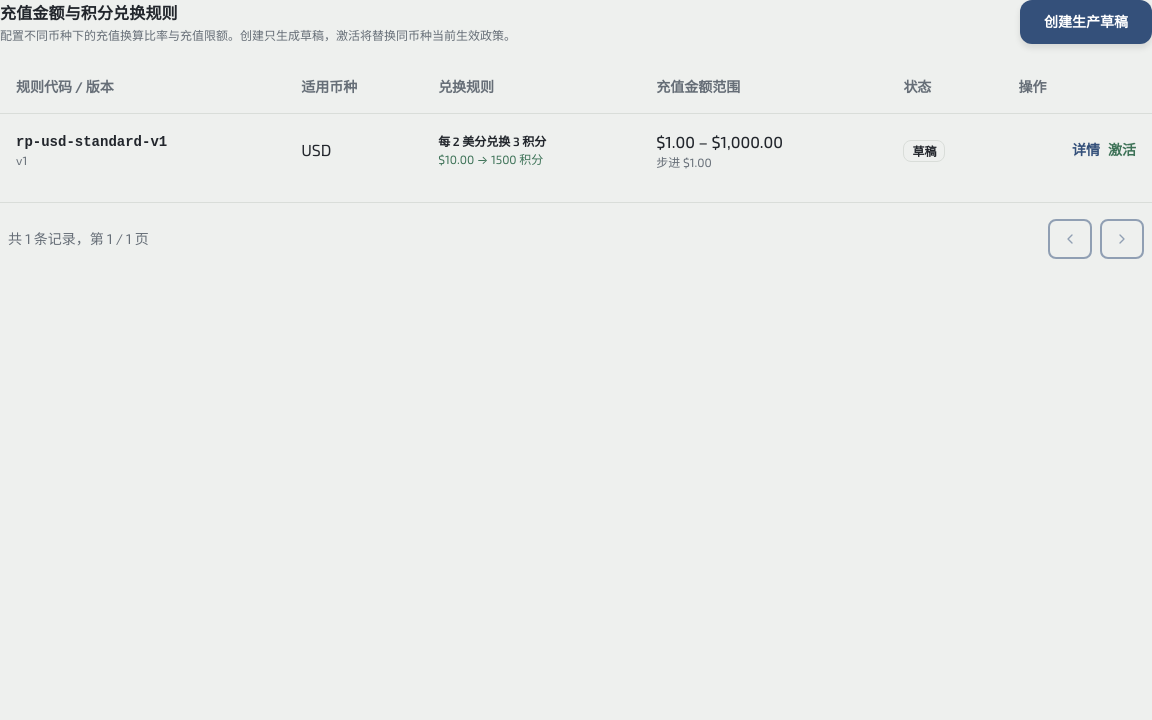
Scenario: AdminPricePolicies › activates a USD draft policy with correct USD currency labels in confirmation copy
Check: the text "每 2 美分兑换 3 积分" is shown, box [438,134,546,148]
Click the button with test id "admin-price-policy-activate-rp-usd-standard-v1". click: [1122, 150]
box: [1108,140,1136,160]
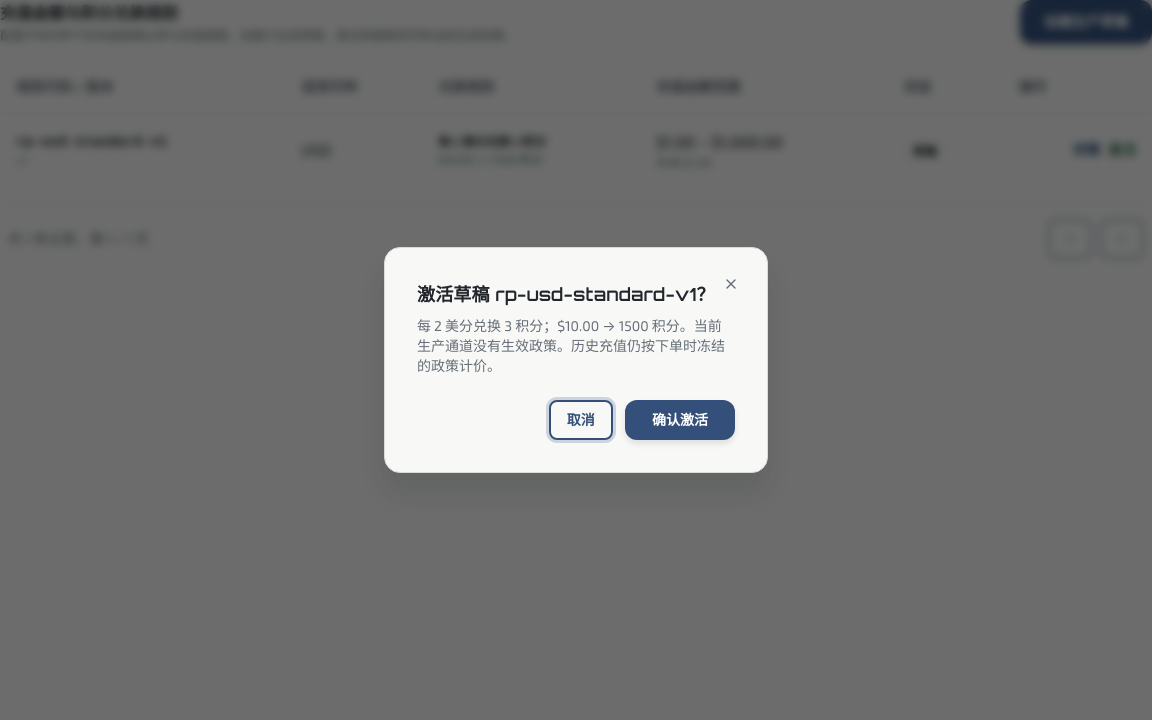
Check: the heading "激活草稿 rp-usd-standard-v1？" is shown, box [417,280,735,308]
Check: the text "每 2 美分兑换 3 积分；$10.00 → 1500 积分" is shown, box [417,317,725,374]
